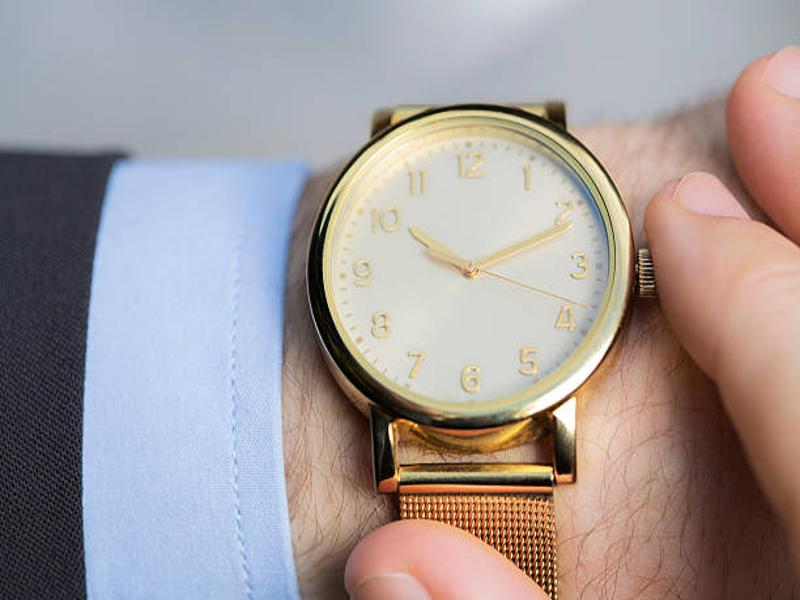watch: (307, 99, 658, 593)
